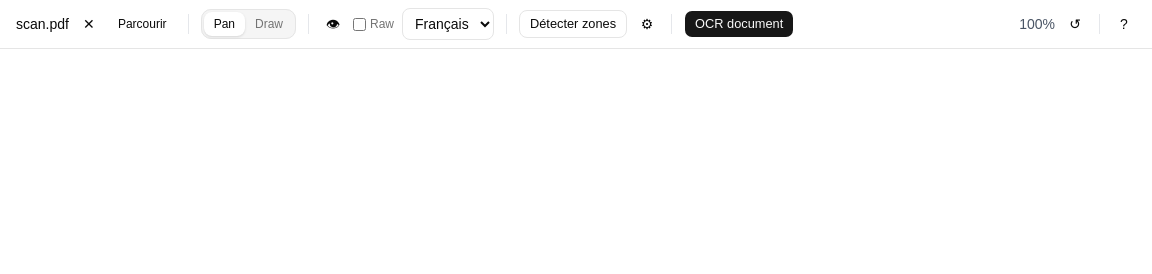
Test: Toolbar — détection de layout › bouton "Re-détecter" visible seulement si hasDetectionCache=true
Click the button named "Filtres de détection" at point(647, 24), box [635,12,659,36]
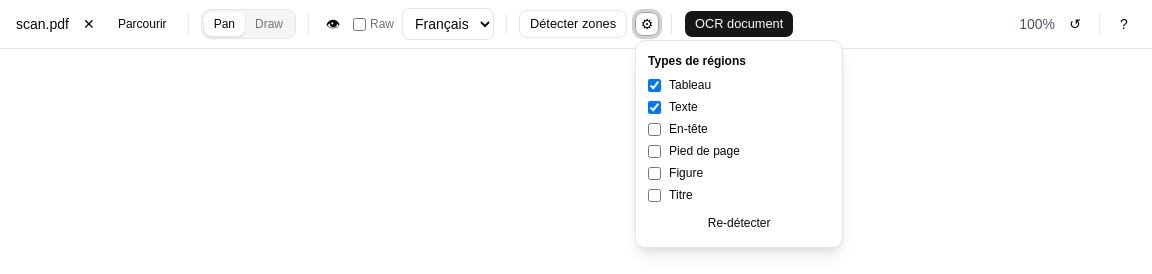
Now the button "Re-détecter" is shown, box [648,211,830,235]
